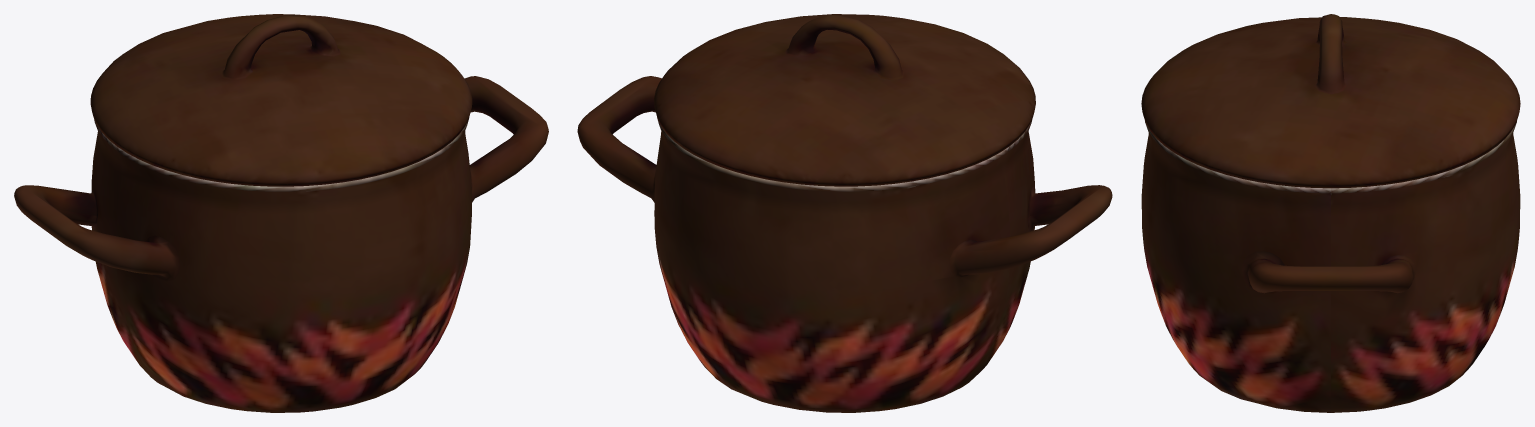
The model's file is pot_enamel_01.glb.
3 views of the same model, side by side, from view 1: azimuth 30°, elevation 25°; view 2: azimuth 150°, elevation 25°; view 3: azimuth 270°, elevation 25° (orthographic).
Parts seen in each view (by area): view 1: pot_enamel_01_lid; view 2: pot_enamel_01_lid; view 3: pot_enamel_01_lid.
Boxes of the visible parts, bbox=[...] form: pot_enamel_01_lid: bbox=[14, 14, 548, 412]; pot_enamel_01_lid: bbox=[577, 14, 1112, 412]; pot_enamel_01_lid: bbox=[1141, 14, 1520, 412].
Size of the model in its own units: 0.2627 by 0.178 by 0.1805.
Materials: 1 (1 with a texture image).
